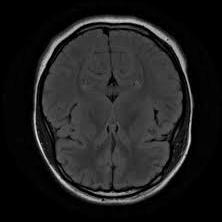Normal_Brain: (2, 1, 222, 222)
